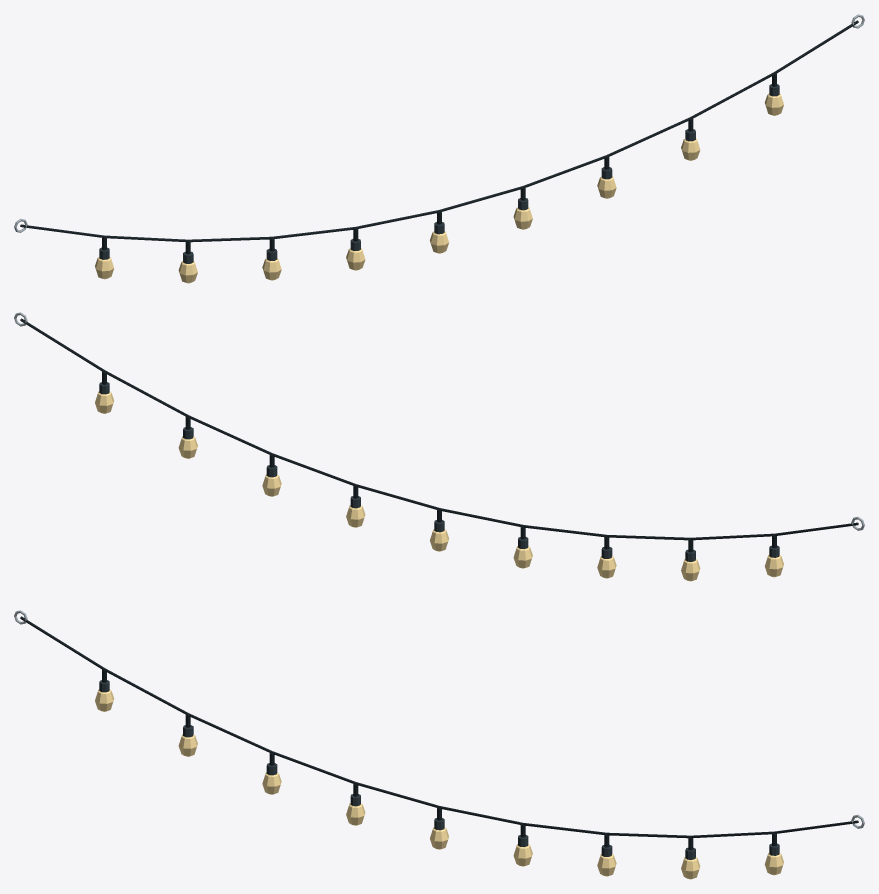
The model's file is b18_festoon_bulb_cable.glb.
3 views of the same model, one above another, from view 1: azimuth 30°, elevation 25°; view 2: azimuth 150°, elevation 25°; view 3: azimuth 330°, elevation 25° (orthographic).
Visible parts, largest first — view 1: b18_festoon_bulb_cable; view 2: b18_festoon_bulb_cable; view 3: b18_festoon_bulb_cable.
Boxes of the visible parts, left/top/right/bottom form: b18_festoon_bulb_cable: left=14, top=14, right=864, bottom=283; b18_festoon_bulb_cable: left=14, top=312, right=864, bottom=581; b18_festoon_bulb_cable: left=14, top=610, right=864, bottom=879.
Bounding box in the file's own units: 5.08 × 0.7831 × 0.104.
